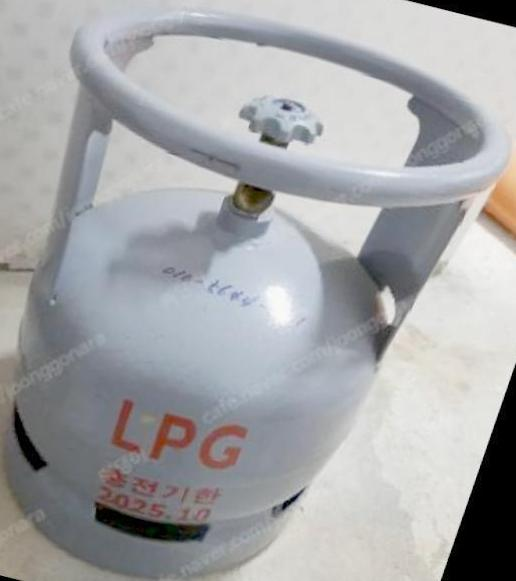cylinder: (0, 1, 516, 581)
